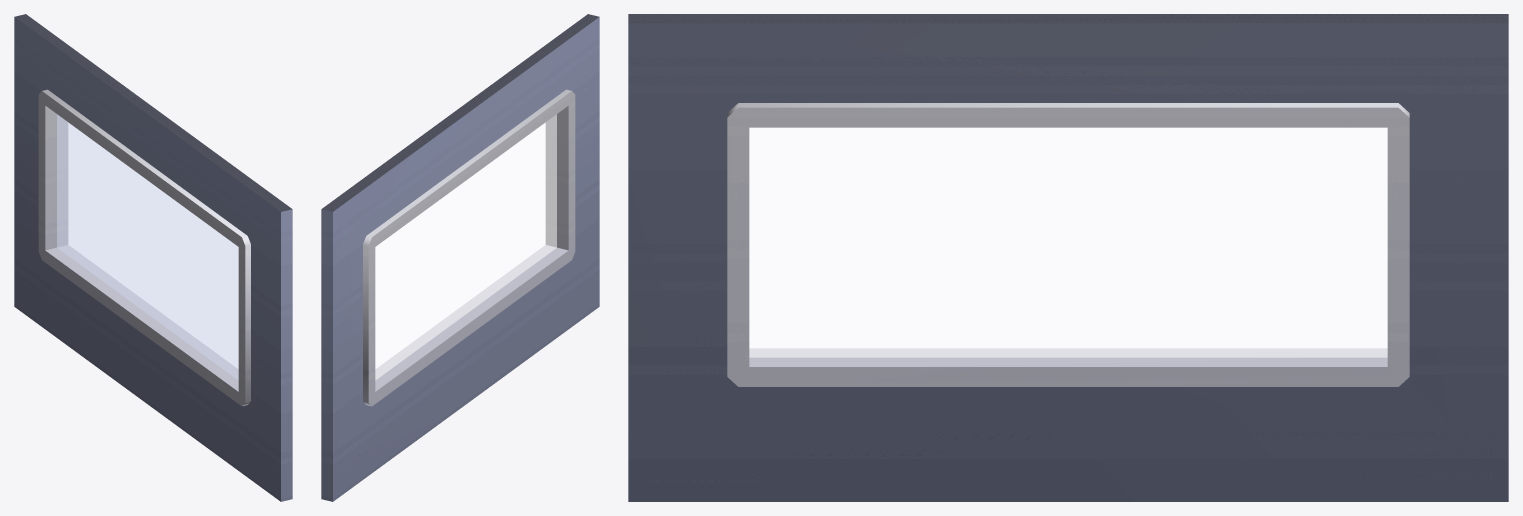
File: wall-window-wide-square.glb
The picture shows the model from 3 angles, left to right: view 1: azimuth 30°, elevation 25°; view 2: azimuth 150°, elevation 25°; view 3: azimuth 270°, elevation 25°; orthographic projection. The views are drawn at different scales.
Visible parts, largest first — view 1: wall-window-wide-square, (%ignore); view 2: wall-window-wide-square, (%ignore); view 3: wall-window-wide-square, (%ignore).
Part boxes in pixels (bbox=[...]): wall-window-wide-square: bbox=[14, 14, 292, 501]; (%ignore): bbox=[57, 114, 238, 380]; wall-window-wide-square: bbox=[321, 14, 599, 501]; (%ignore): bbox=[375, 114, 556, 380]; wall-window-wide-square: bbox=[628, 14, 1508, 501]; (%ignore): bbox=[749, 127, 1387, 357].
Size of the model in its own units: 0.2 by 2.4 by 4.
Materials: 2 (1 with a texture image).
